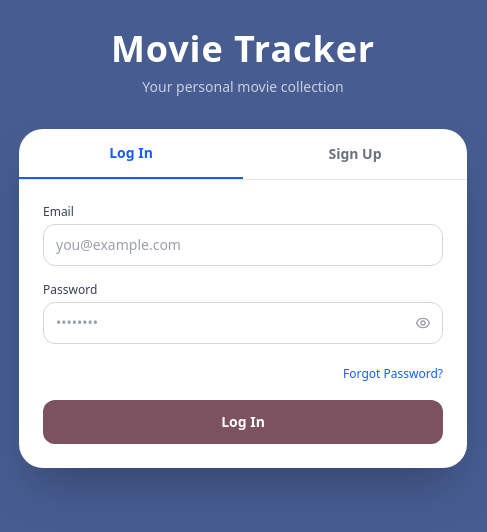
Test: AuthPage › switches to sign up tab
This screenshot has width=487, height=532.
# Only one "Sign Up" button exists while on the login tab
Click the button "Sign Up" at {"x": 355, "y": 154}, box [243,128,467,178]
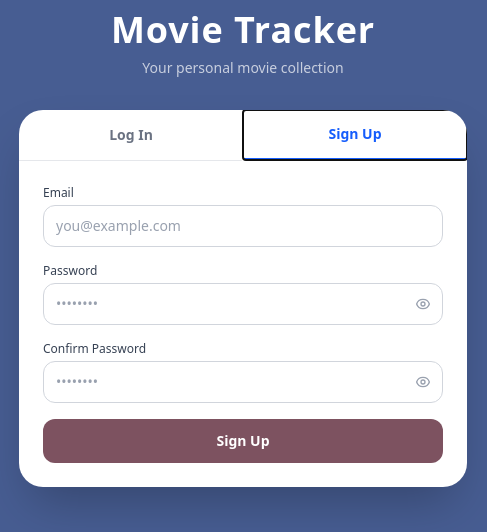
Expected: the text "Confirm Password" is shown, [43,340,146,356]
